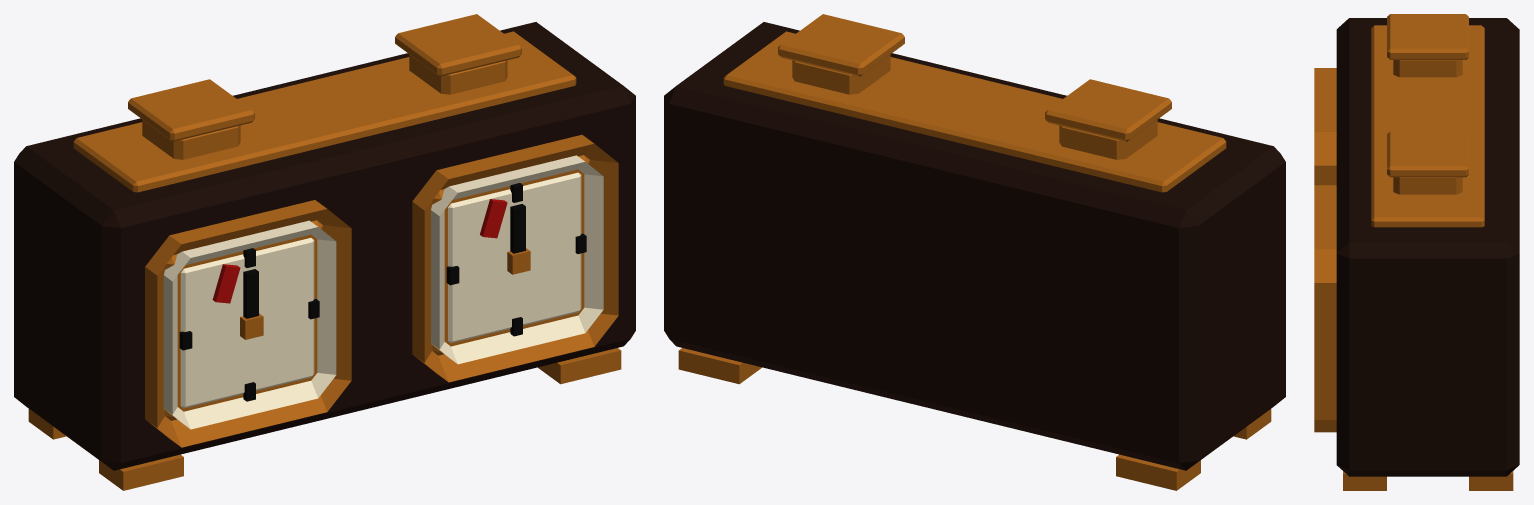
File: cozy_chess_clock_analog.obj
The picture shows the model from 3 angles, left to right: view 1: azimuth 30°, elevation 25°; view 2: azimuth 150°, elevation 25°; view 3: azimuth 270°, elevation 25°; orthographic projection. The views are drawn at different scales.
Visible parts, largest first — view 1: Chess_Clock_Mesh; view 2: Chess_Clock_Mesh; view 3: Chess_Clock_Mesh.
Part boxes in pixels (x1,y1,x2,y2): Chess_Clock_Mesh: [14, 14, 635, 490]; Chess_Clock_Mesh: [664, 14, 1285, 490]; Chess_Clock_Mesh: [1314, 14, 1519, 490].
Size of the model in its own units: 0.176 by 0.102 by 0.065.
